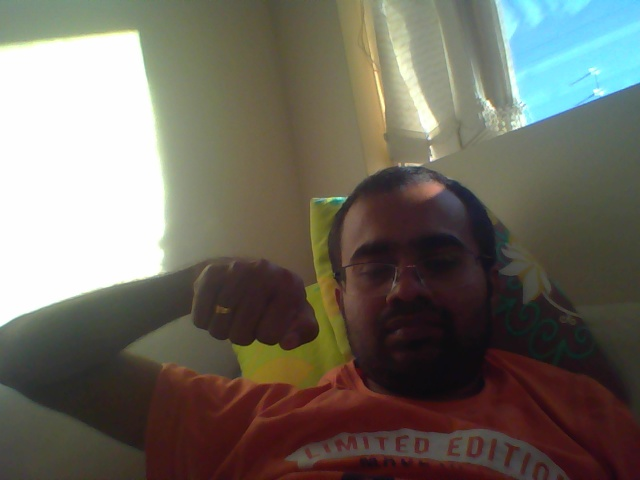Thankyou: (189, 253, 328, 359)
